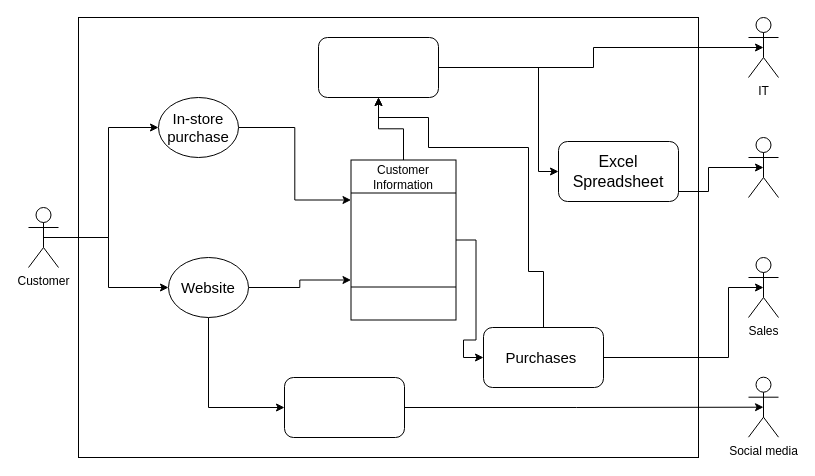
This 815x476 diagram has some shape labels left out. Here are the shapes that lost their labels. From the top down, the box of each, then its label:
(318, 36, 438, 98): Database
(748, 136, 778, 198): Accountant
(350, 159, 456, 320): +Customer name +Address +County +Tel No +Email
(284, 376, 404, 438): Links to MCTV's social media pages
